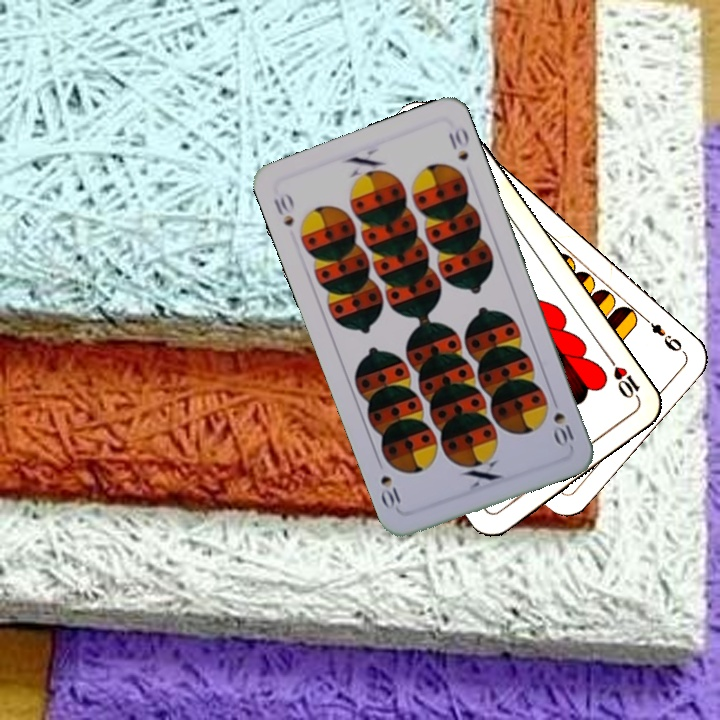E9: (638, 311, 685, 355)
H10: (605, 353, 644, 405)
S10: (549, 407, 577, 450), (269, 188, 297, 229)
